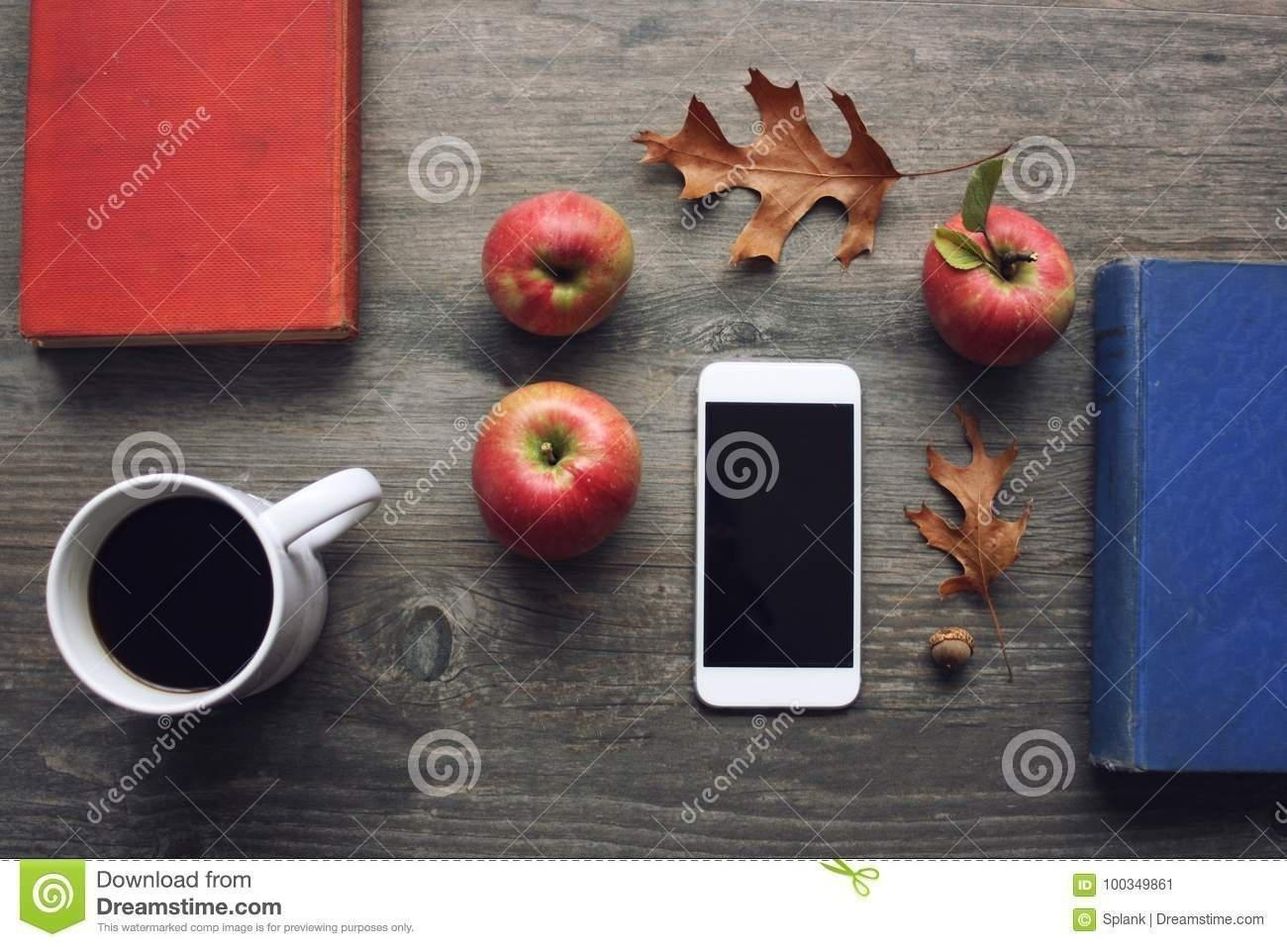cup-handle: (34, 460, 384, 721)
